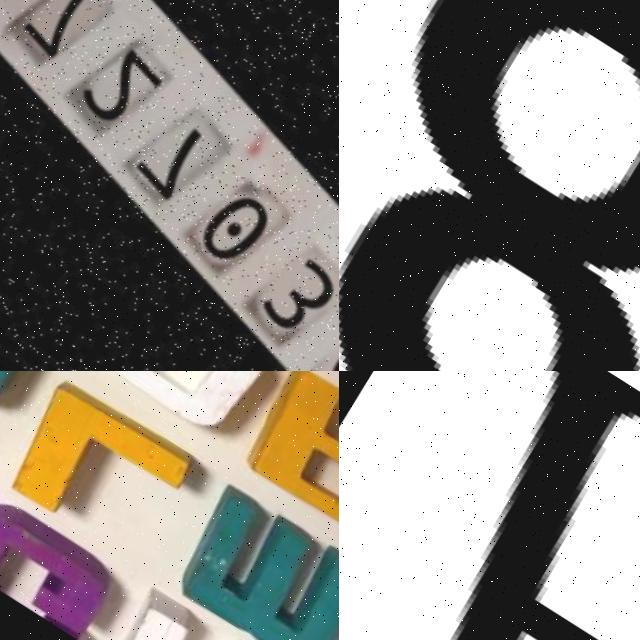0: (161, 157, 294, 293), (283, 291, 339, 371)
2: (45, 15, 181, 155)
3: (222, 226, 339, 362)
7: (103, 88, 237, 225), (0, 0, 115, 81)
8: (339, 0, 640, 371)
F: (339, 371, 640, 640)
G: (0, 491, 116, 640)
H: (103, 590, 292, 640)
L: (0, 377, 205, 568)
M: (166, 488, 339, 640)
Q: (81, 371, 292, 446)
R: (229, 371, 339, 554)
